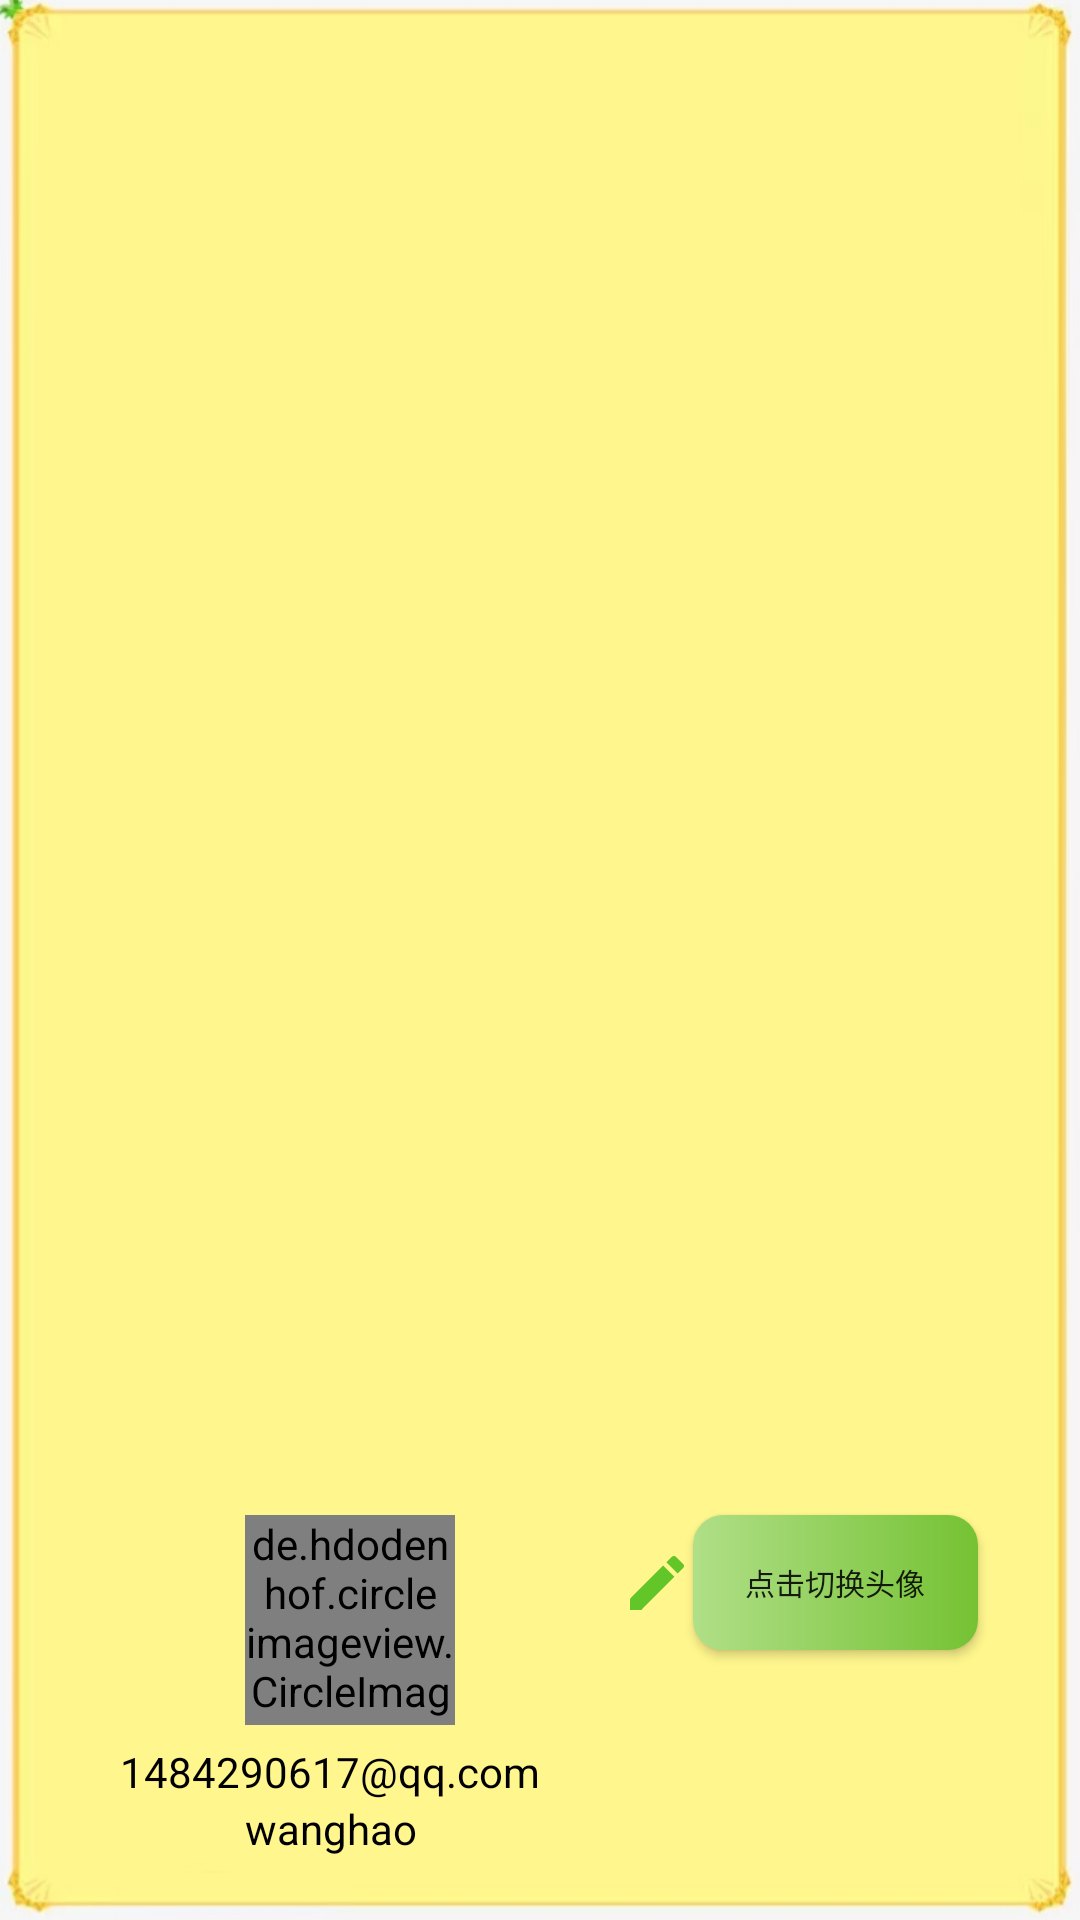

Named icons in this screenshot (1080x1920) and their bounding boxes, (left=x1, top=y1, right=x2, bottom=y2):
edit: (left=630, top=1556, right=684, bottom=1610)
